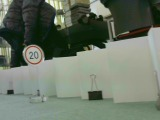speed_20: (21, 44, 45, 66)
